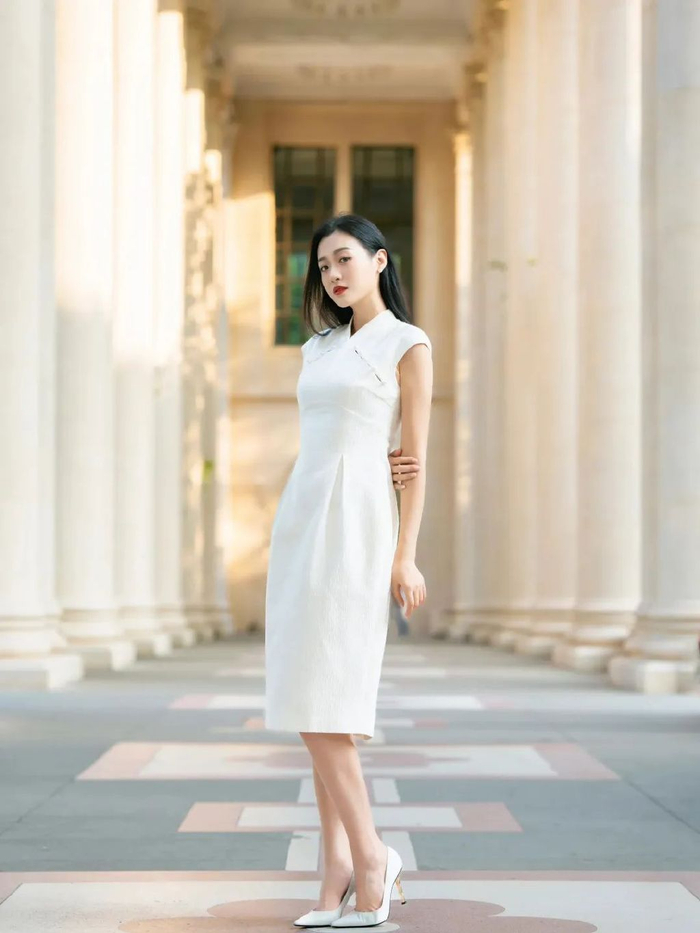up: (231, 204, 457, 933)
